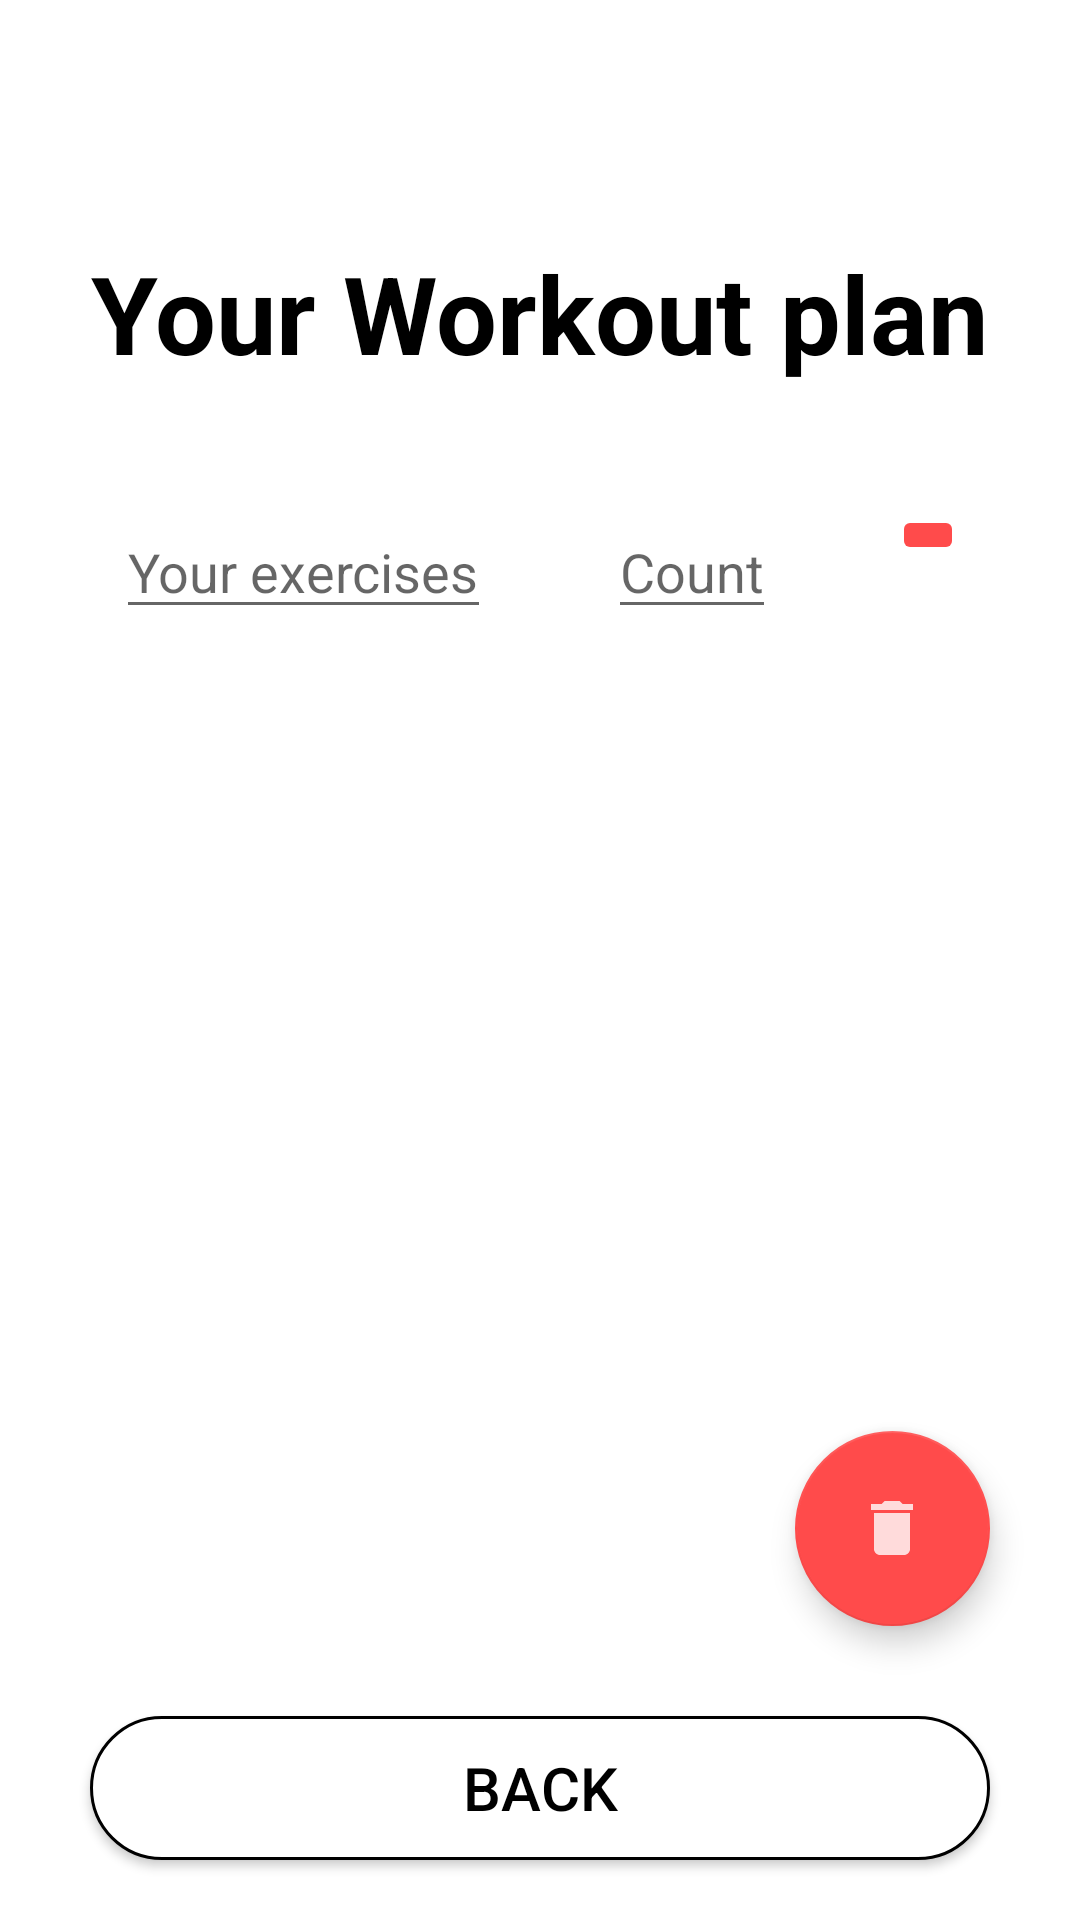

Screen size 1080 x 1920. Icon name, then its box in pixels as (x1, y1, x2, y2):
Delete note: (795, 1431, 990, 1626)
